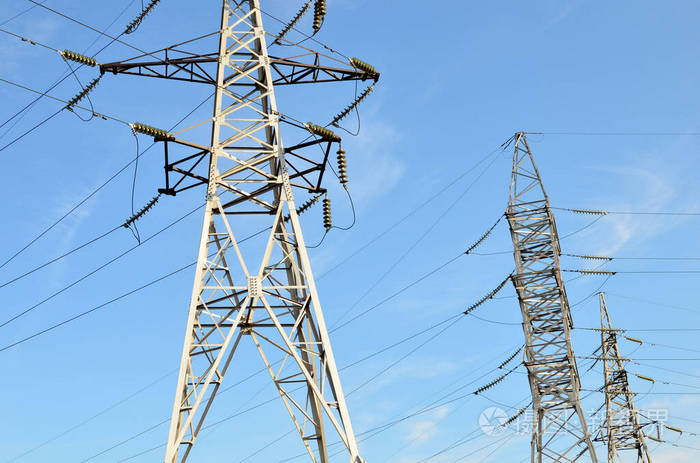insulator: (331, 85, 374, 120), (274, 3, 309, 43), (125, 195, 161, 225), (287, 192, 318, 221), (131, 120, 170, 142), (125, 1, 156, 28), (70, 79, 99, 107), (307, 120, 339, 141), (60, 48, 97, 66), (349, 54, 380, 74), (334, 149, 350, 185), (312, 1, 329, 32), (319, 198, 335, 230)
